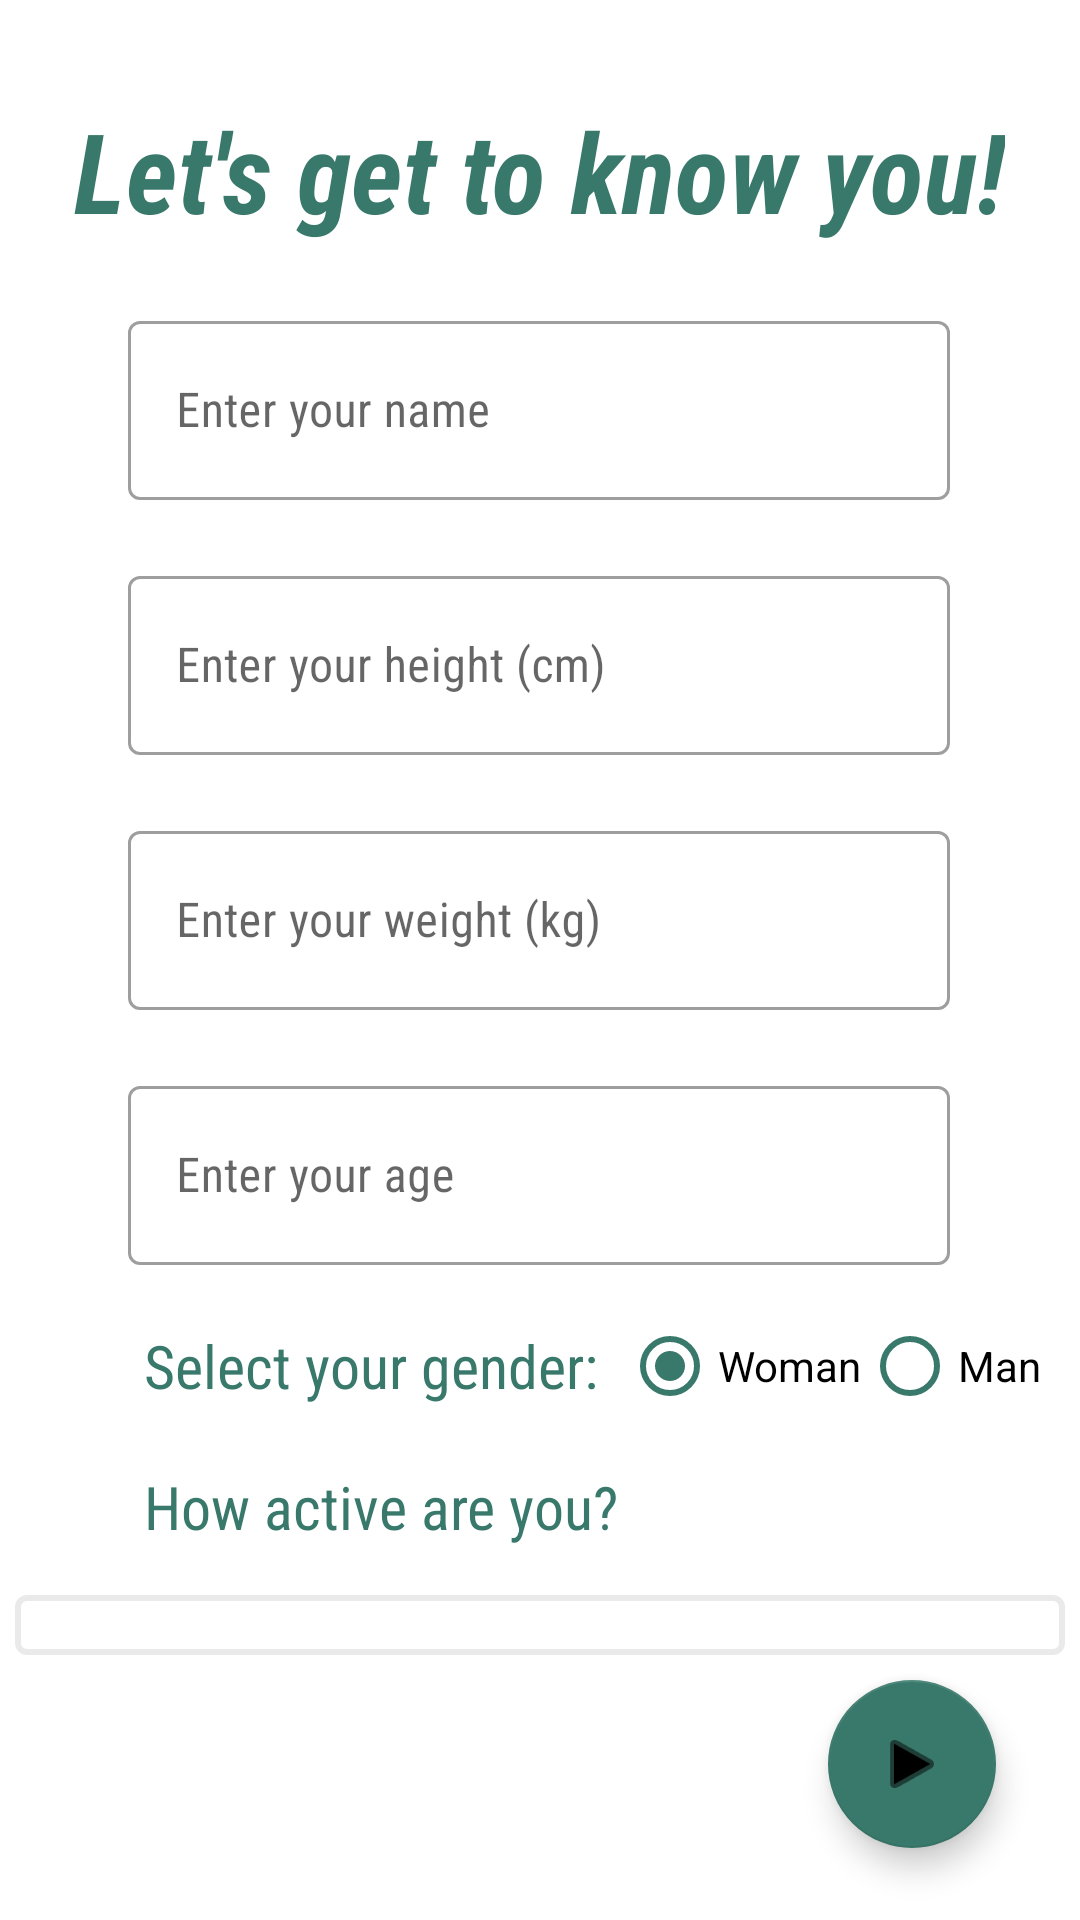

Icon bounding boxes for this 1080w x 1920h phone screenshot, format (x1,y1,x2,y2):
NEXT: (828,1680,996,1848)
